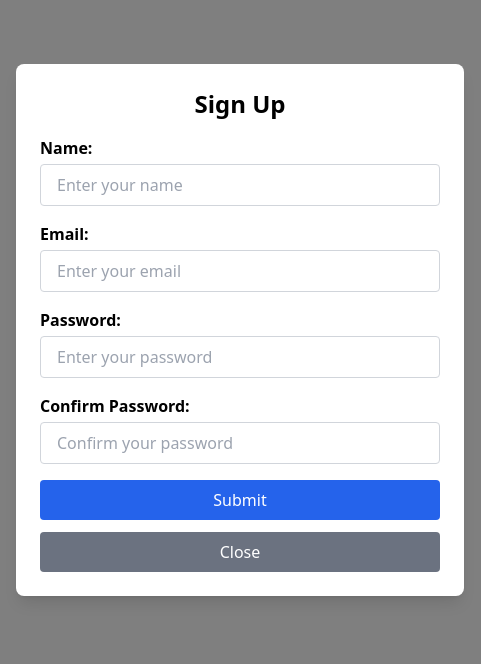
Test: SignUp Component › shows validation errors when submitted empty
Click the button "Submit": (240, 500) [40, 480, 440, 520]
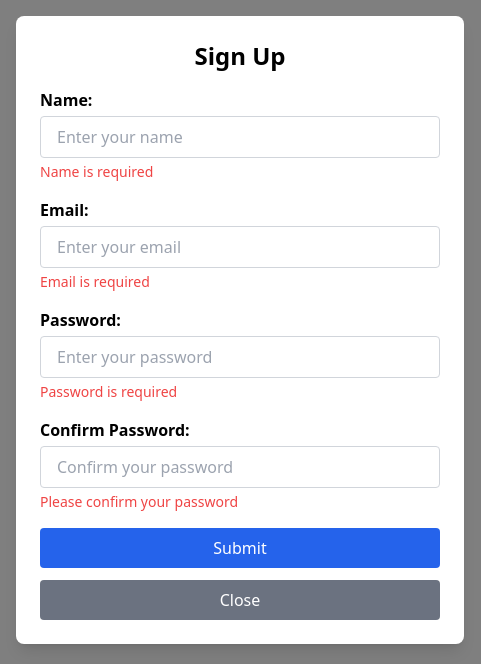
Now the text "Name is required" is shown, box [40, 162, 153, 181]
Now the text "Email is required" is shown, box [40, 272, 150, 291]
Now the text "Password is required" is shown, box [40, 382, 177, 401]
